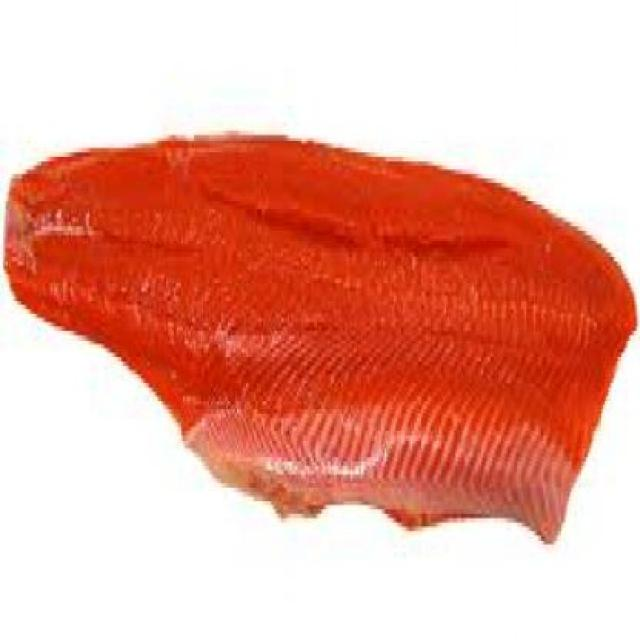salmon: (1, 109, 640, 605)
